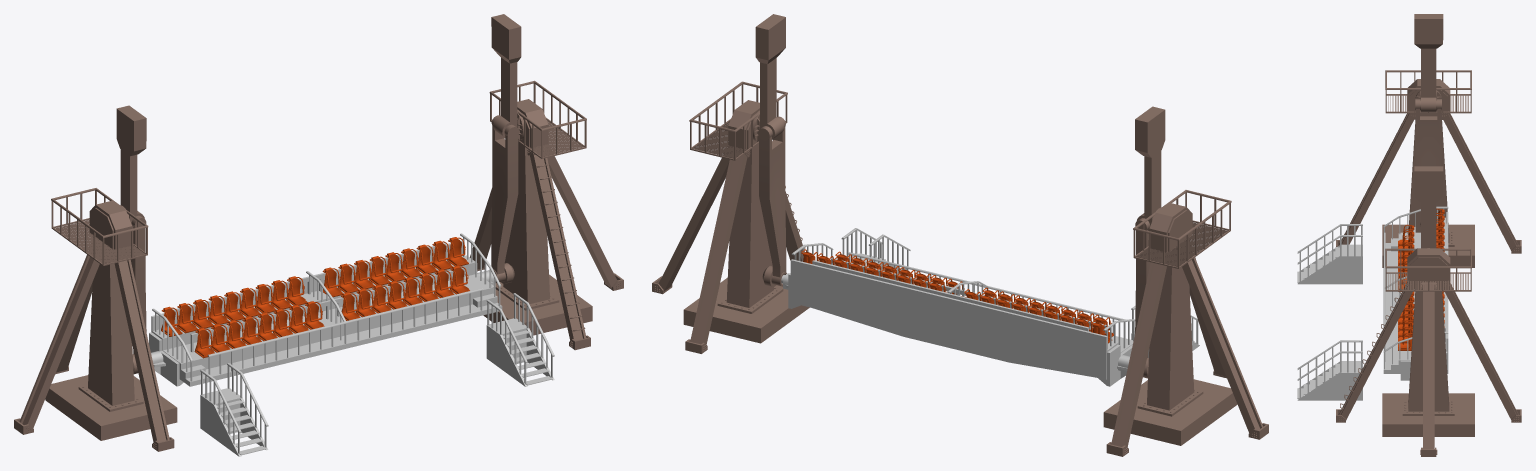
The model's file is Wave.fbx.
3 renders of one model, left to right at view 1: azimuth 30°, elevation 25°; view 2: azimuth 150°, elevation 25°; view 3: azimuth 270°, elevation 25°, orthographic. The views are drawn at different scales.
Visible parts, largest first — view 1: Wave_frame, Wave_plate, Wave_swing_1, Ladder_1, Ladder_2, Wave_swing_2; view 2: Wave_frame, Wave_plate, Wave_swing_1, Wave_swing_2, Ladder_1; view 3: Wave_frame, Wave_swing_2, Wave_plate, Ladder_2, Ladder_1, Wave_swing_1.
Part boxes in pixels (box(x1,y1,x2,y2)): Wave_frame: box(14, 80, 623, 451); Wave_plate: box(149, 233, 502, 386); Wave_swing_1: box(491, 14, 523, 283); Ladder_1: box(486, 293, 554, 386); Ladder_2: box(200, 363, 268, 456); Wave_swing_2: box(116, 105, 146, 374); Wave_frame: box(652, 81, 1268, 456); Wave_plate: box(781, 243, 1135, 386); Wave_swing_1: box(753, 14, 786, 286); Wave_swing_2: box(1135, 106, 1165, 378); Ladder_1: box(841, 228, 910, 280); Wave_frame: box(1336, 70, 1521, 456); Wave_swing_2: box(1414, 14, 1443, 229); Wave_plate: box(1383, 206, 1448, 380); Ladder_2: box(1297, 224, 1362, 284); Ladder_1: box(1297, 340, 1362, 400); Wave_swing_1: box(1414, 166, 1443, 248).
Size of the model in its own units: 2684 by 1252 by 1042.
